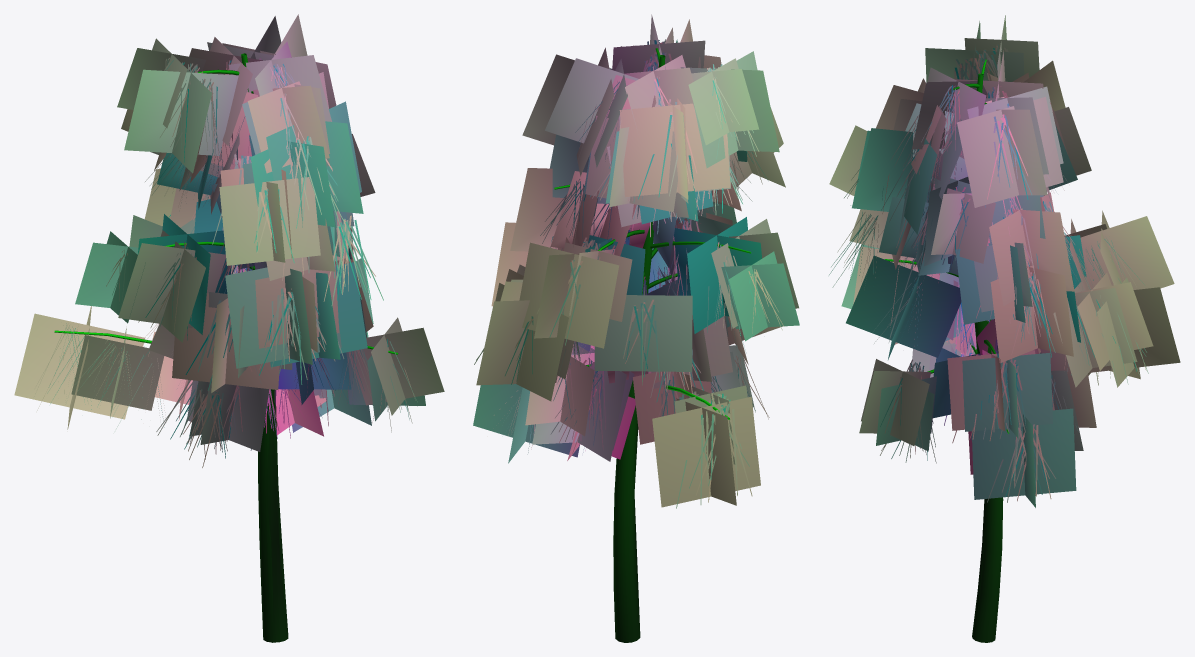
Rendered from casuarina_3.glb.
3 renders of one model, left to right at view 1: azimuth 30°, elevation 25°; view 2: azimuth 150°, elevation 25°; view 3: azimuth 270°, elevation 25°, orthographic. The views are drawn at different scales.
Parts seen in each view (by area): view 1: mid, near; view 2: mid, near; view 3: mid, near.
Boxes of the visible parts, left/top/right/bottom form: mid: left=14, top=14, right=444, bottom=642; near: left=34, top=53, right=417, bottom=642; mid: left=473, top=14, right=799, bottom=632; near: left=474, top=40, right=783, bottom=642; mid: left=829, top=15, right=1180, bottom=638; near: left=829, top=44, right=1148, bottom=642.
Bounding box in the file's own units: 6.7 × 12.46 × 7.01.
